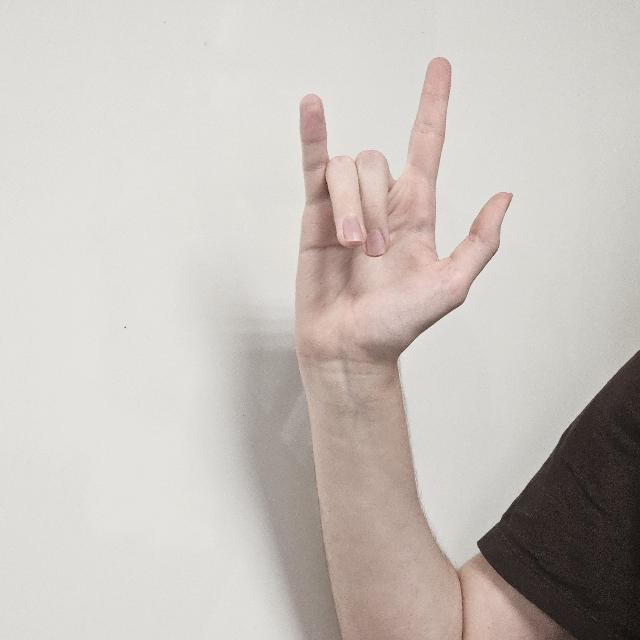Cima: (296, 56, 512, 372)
